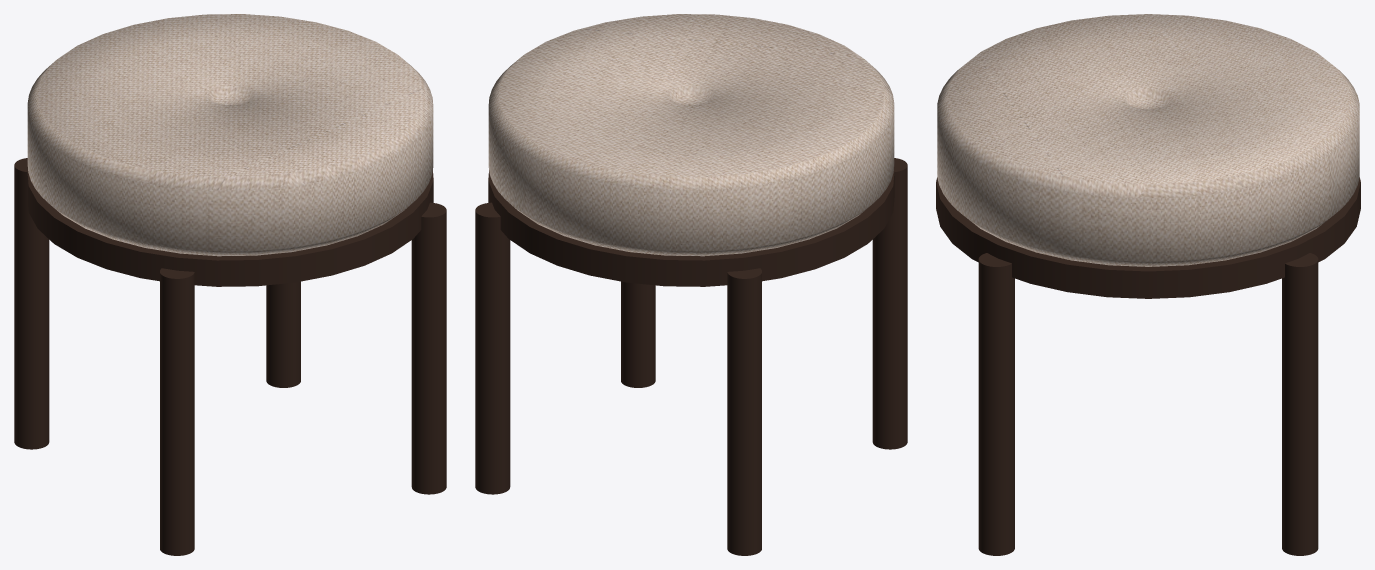
Rendered from furniture_seating_210048.glb.
The picture shows the model from 3 angles, left to right: view 1: azimuth 30°, elevation 25°; view 2: azimuth 150°, elevation 25°; view 3: azimuth 270°, elevation 25°; orthographic projection. The views are drawn at different scales.
Visible parts, largest first — view 1: furniture_seating_210048; view 2: furniture_seating_210048; view 3: furniture_seating_210048.
Part boxes in pixels (<box>): furniture_seating_210048: <box>14,14,446,555</box>; furniture_seating_210048: <box>475,14,907,555</box>; furniture_seating_210048: <box>936,14,1360,555</box>.
Size of the model in its own units: 0.336 by 0.336 by 0.336.
1 material, 1 textured.
